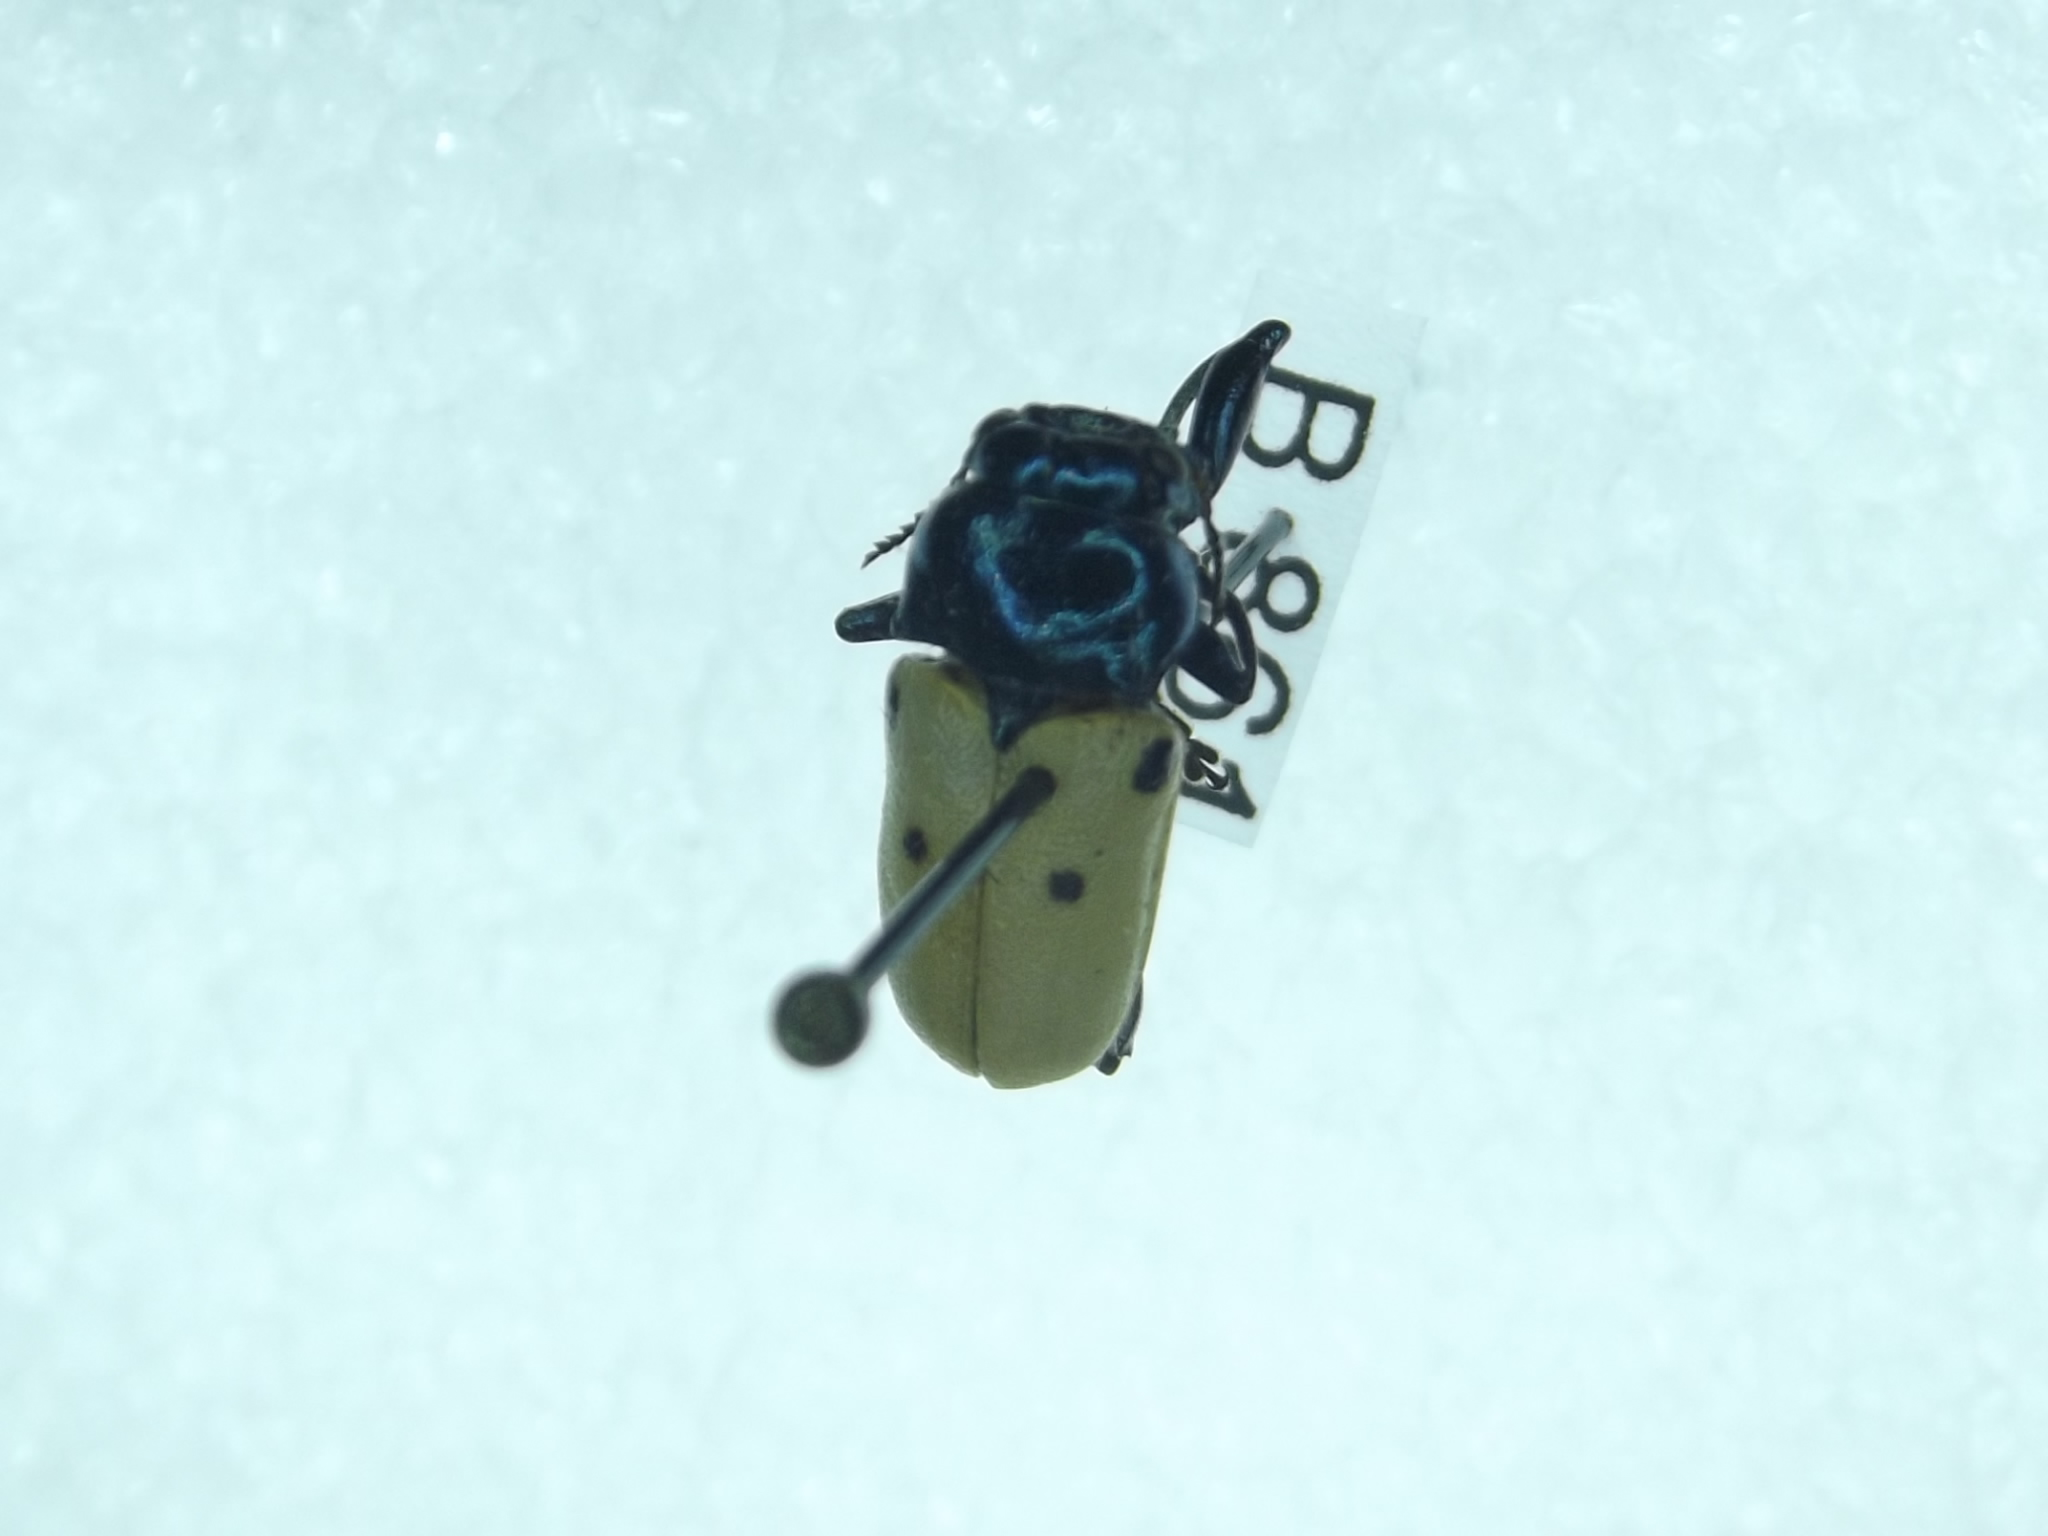Labidostomis_maculipennis: (842, 294, 1348, 1096)
